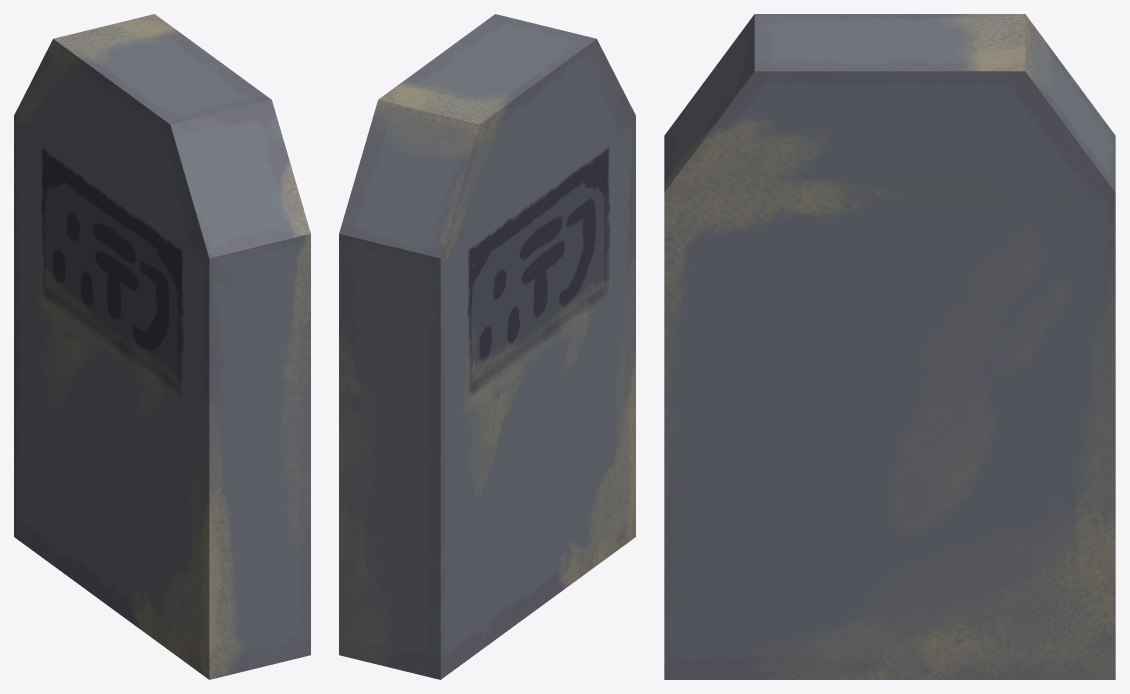
Rendered from LevelUp_Grave1.fbx.
3 views of the same model, side by side, from view 1: azimuth 30°, elevation 25°; view 2: azimuth 150°, elevation 25°; view 3: azimuth 270°, elevation 25° (orthographic). The views are drawn at different scales.
Visible parts, largest first — view 1: GRAVEs; view 2: GRAVEs; view 3: GRAVEs.
Part boxes in pixels (bbox=[...]): GRAVEs: bbox=[14, 14, 310, 679]; GRAVEs: bbox=[339, 14, 635, 679]; GRAVEs: bbox=[664, 14, 1115, 679].
Size of the model in its own units: 60 by 298 by 200.
